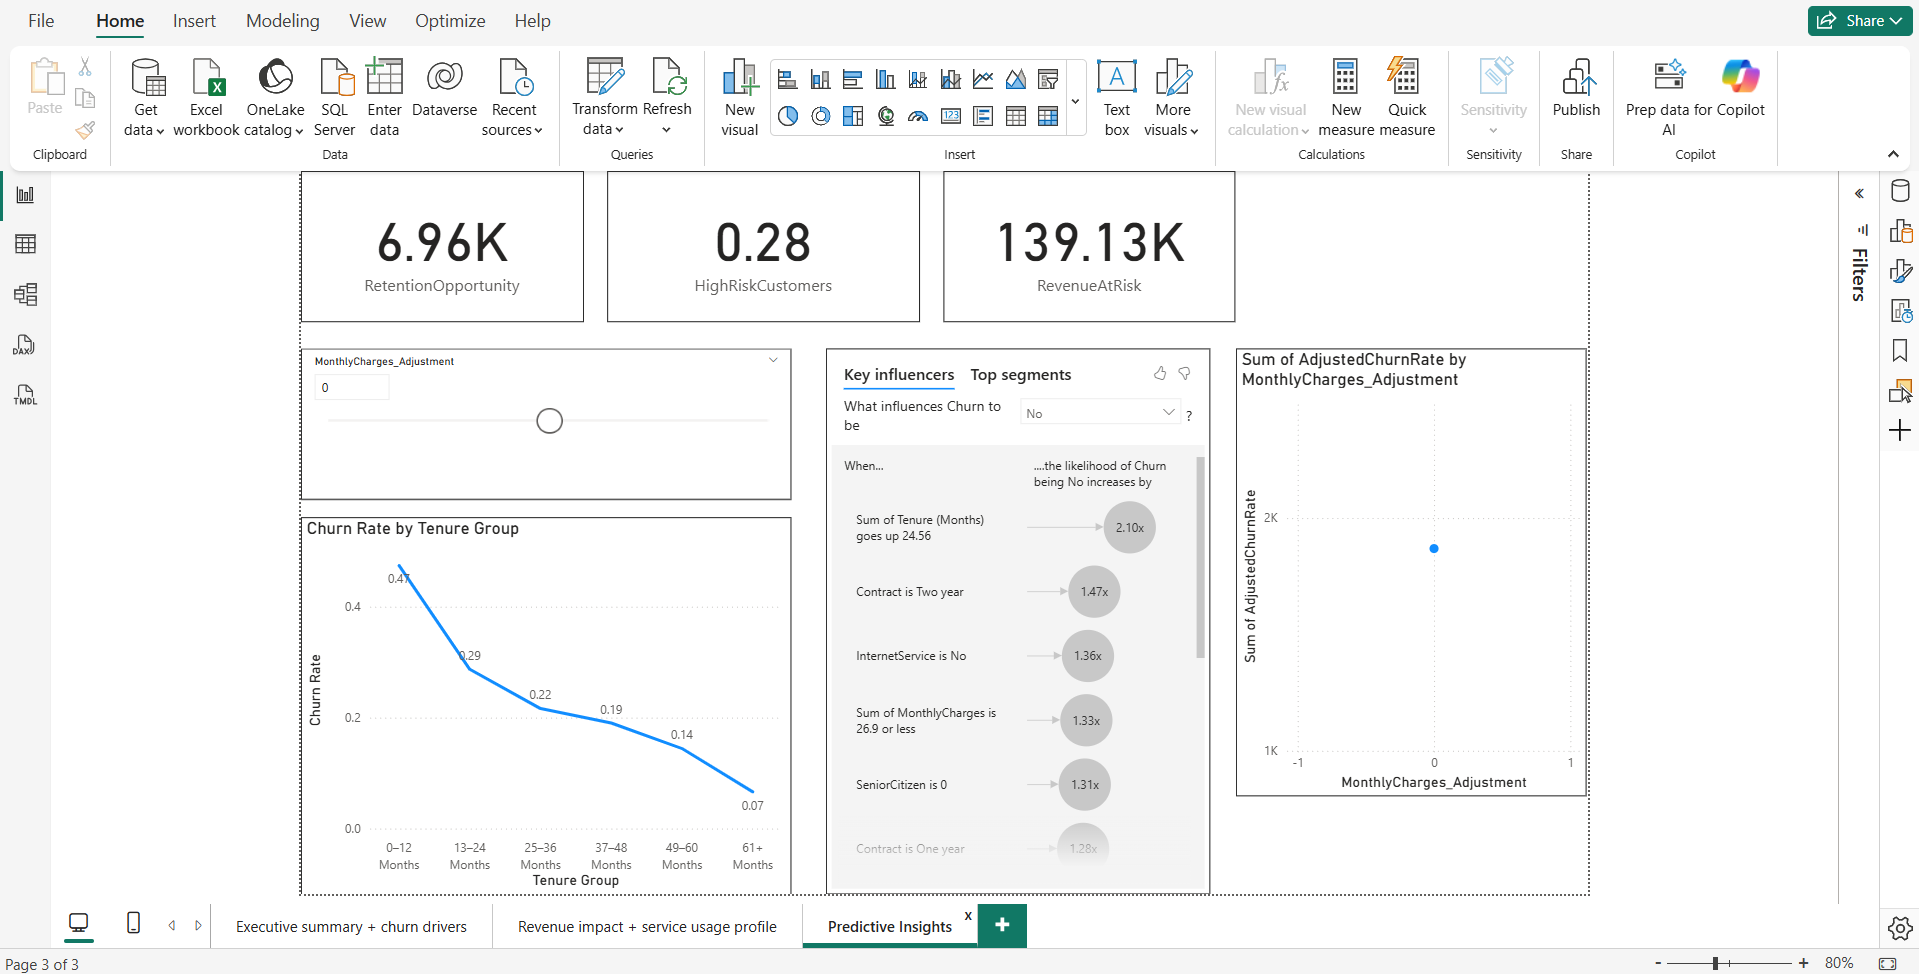

The page's visual inventory and layout, read from the dashboard file:
{"tool":"powerbi","page":{"name":"Predictive Insights","canvas":[1280,720],"ordinal":2},"visuals":[{"type":"card","fields":{"Values":["Customer.HighRiskCustomers"]},"box":[304.9,0,311.2,150.1],"z":0},{"type":"card","fields":{"Values":["Customer.RevenueAtRisk"]},"box":[639.9,0,290.7,150.1],"z":1000},{"type":"card","fields":{"Values":["Customer.RetentionOpportunity"]},"box":[0,0,281.2,150.1],"z":2000},{"type":"keyDriversVisual","fields":{"Target":["Customer.Churn"],"ExplainBy":["Customer.Contract","Sum(Customer.Tenure (Months))","Sum(Customer.MonthlyCharges)","Customer.SeniorCitizen","Customer.PaymentMethod","Customer.InternetService"]},"box":[522.9,176.9,382.3,543.5],"z":3000},{"type":"lineChart","fields":{"Category":["Customer.Tenure Group"],"Y":["Customer.Churn Rate"]},"box":[0,344.4,488.2,376],"z":4000},{"type":"slicer","fields":{"Values":["MonthlyCharges_Adjustment.MonthlyCharges_Adjustment"]},"box":[0,176.9,488.2,150.1],"z":5000},{"type":"lineChart","fields":{"Category":["MonthlyCharges_Adjustment.MonthlyCharges_Adjustment"],"Y":["Sum(Customer.AdjustedChurnRate)"]},"box":[930.6,176.9,349.2,445.5],"z":6000}]}

Visuals, with their boxes on the page's 1280x720 design canvas (x1, y1, x2, y2). These are canvas units, not pixel positions in the 1919x974 screenshot, which may show the page scaled, cropped or inside an application window:
card - Customer.HighRiskCustomers: left=305, top=0, right=616, bottom=150
card - Customer.RevenueAtRisk: left=640, top=0, right=931, bottom=150
card - Customer.RetentionOpportunity: left=0, top=0, right=281, bottom=150
keyDriversVisual - Customer.Churn x Customer.Contract: left=523, top=177, right=905, bottom=720
lineChart - Customer.Tenure Group x Customer.Churn Rate: left=0, top=344, right=488, bottom=720
slicer - MonthlyCharges_Adjustment.MonthlyCharges_Adjustment: left=0, top=177, right=488, bottom=327
lineChart - MonthlyCharges_Adjustment.MonthlyCharges_Adjustment x Sum(Customer.AdjustedChurnRate): left=931, top=177, right=1280, bottom=622
